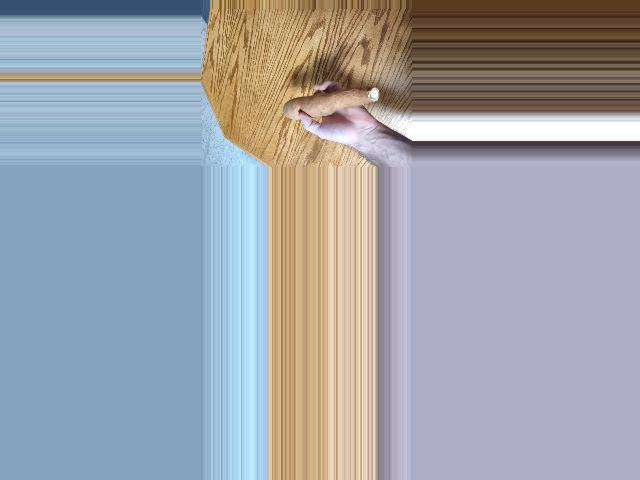sweet_potato: (279, 85, 387, 115)
